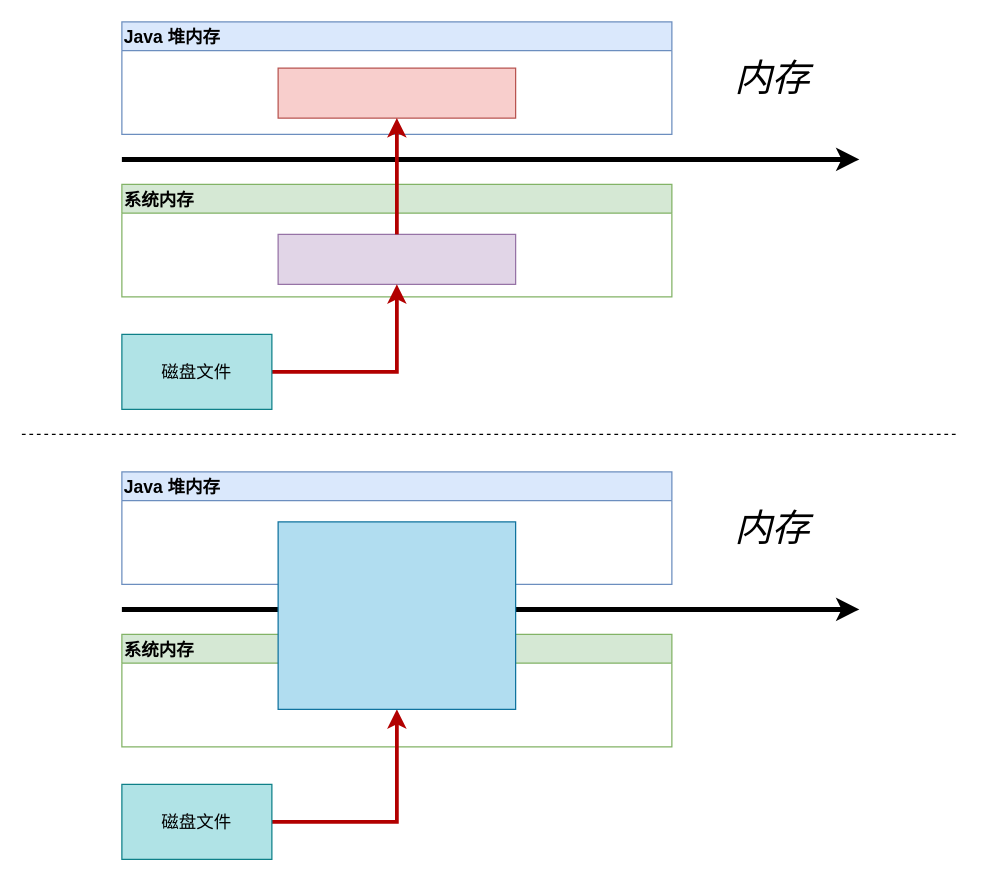
This 983x881 diagram has some shape labels left out. Here are the shapes that lost their labels. From the top down, the centre of each, then its label:
At point 396,92: "Java 缓冲区".
At point 396,258: "系统缓存区".
At point 396,615: "直接内存".
